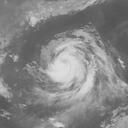cyclone: (37, 29, 107, 106)
